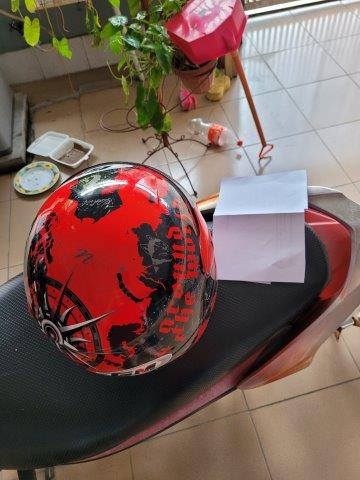botolplastik: (185, 118, 244, 150)
kertas: (209, 168, 307, 284)
